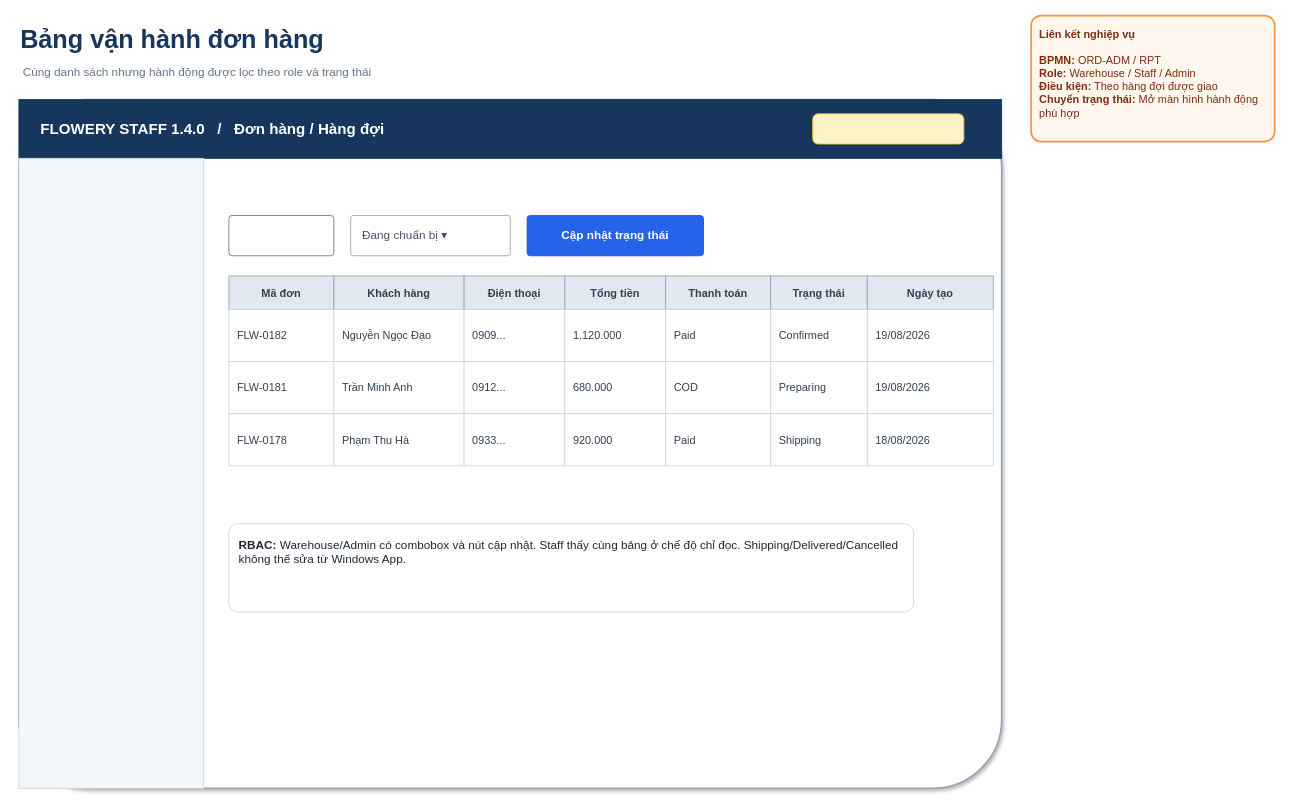
This 1289x809 diagram has some shape labels left out. The shapes that lost their labels are listed below. From the top down, each one's centre as x and y in pixels, then its label:
At pixel 888 128: "19 đơn đang xử lý".
At pixel 281 235: "Làm mới".
At pixel 111 473: "Nhân viên kho ▣ Tổng quan ▣ Đơn hàng ▣ Sản phẩm hoa ▣ Danh mục hoa ⇥ Đăng xuất".
